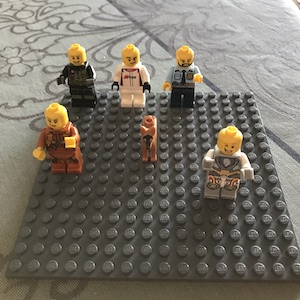Lego: (197, 125, 251, 204), (33, 102, 85, 177), (110, 41, 152, 111), (162, 44, 205, 109), (57, 42, 98, 107)
